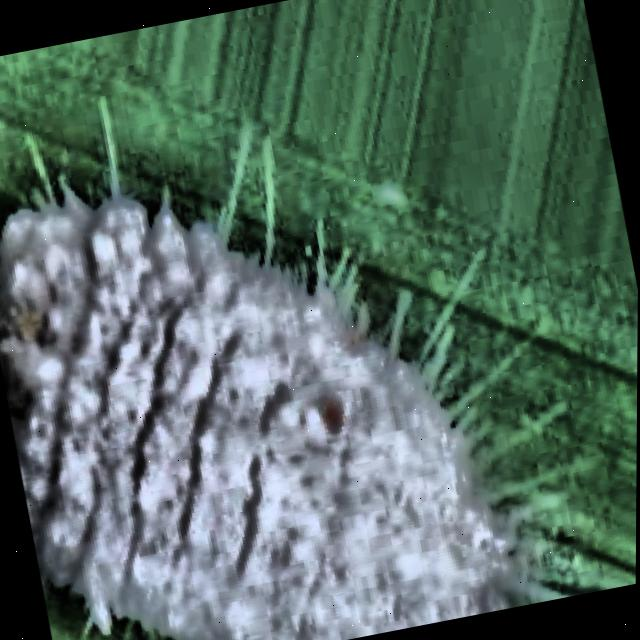Mealy-bug: (0, 56, 607, 640)
